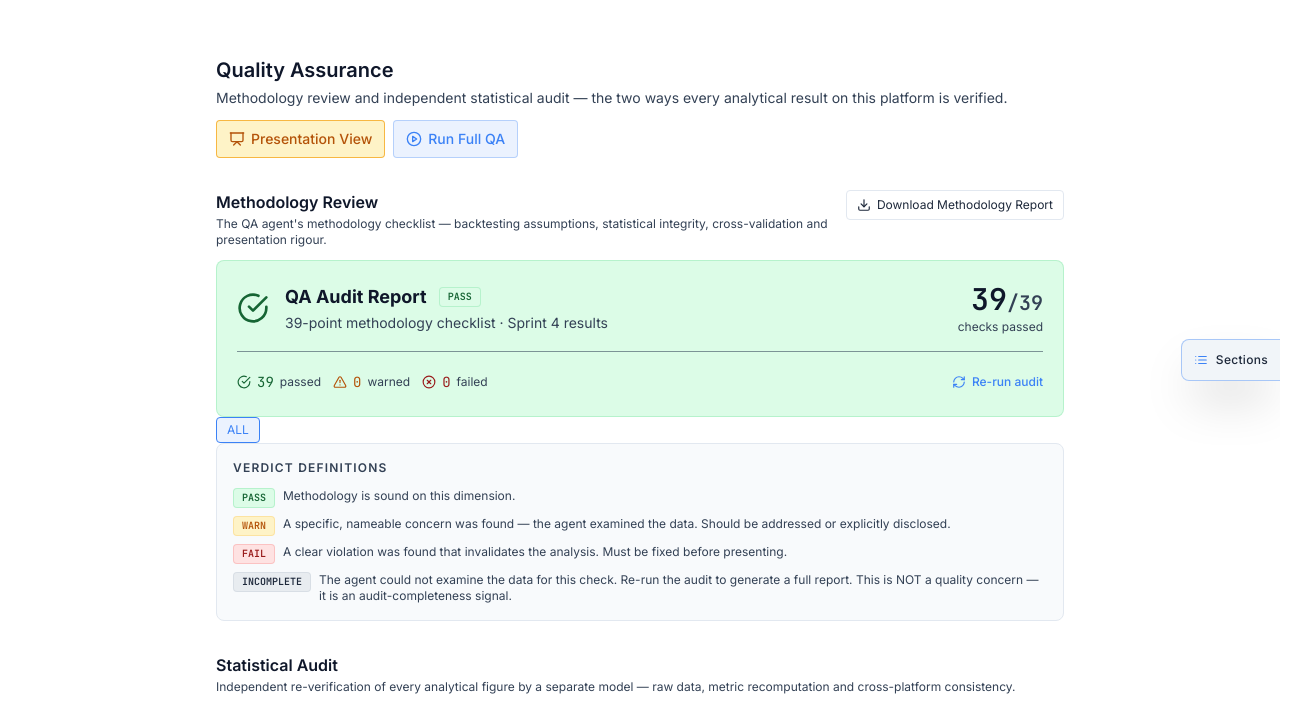
Test case: QAHub — Presentation View certificate › renders the certificate with all three status boxes
Click the button "Presentation View" at [301, 139], box [216,120,385,158]
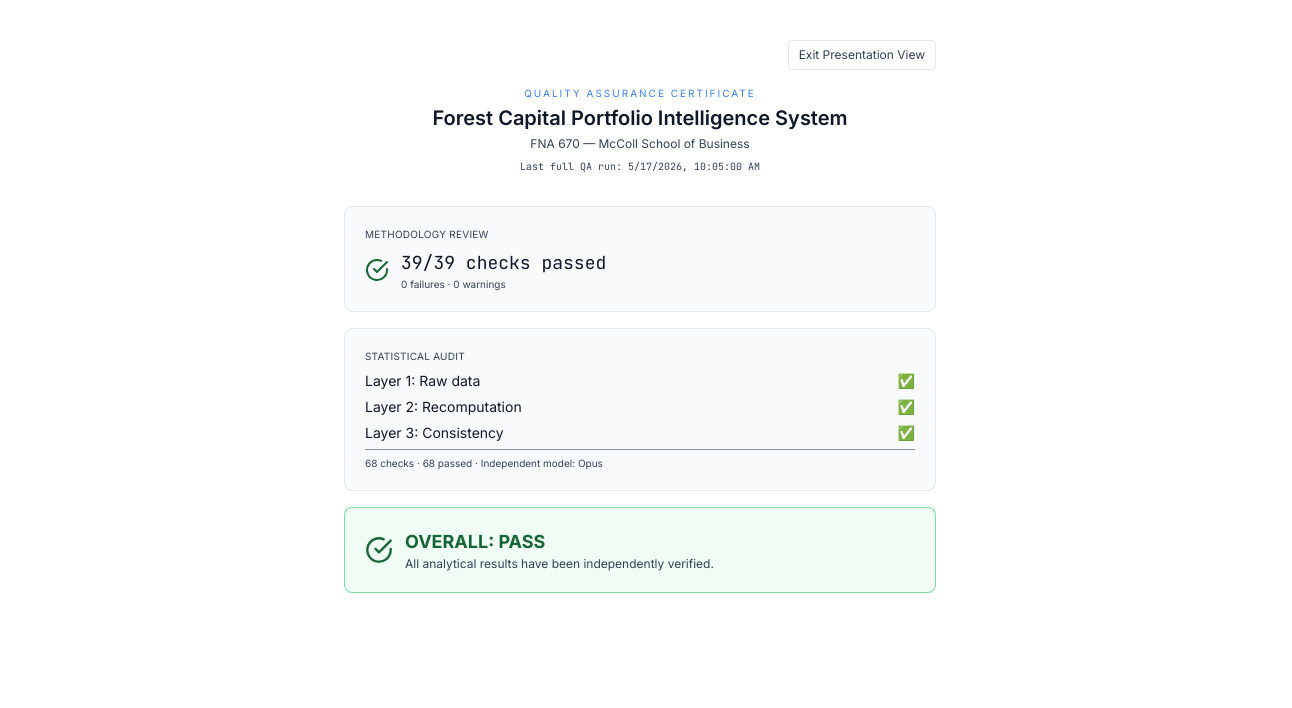
expect the text "Methodology Review" is shown: met, box [365,228,489,240]
expect the text "Quality Assurance Certificate" is shown: met, box [524,87,756,99]
expect the text "OVERALL: PASS" is shown: met, box [405,531,545,552]
